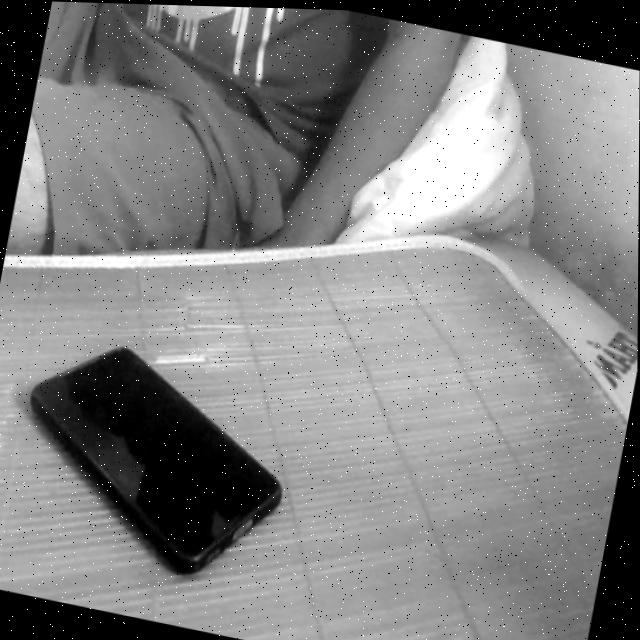phone: (0, 289, 325, 618)
